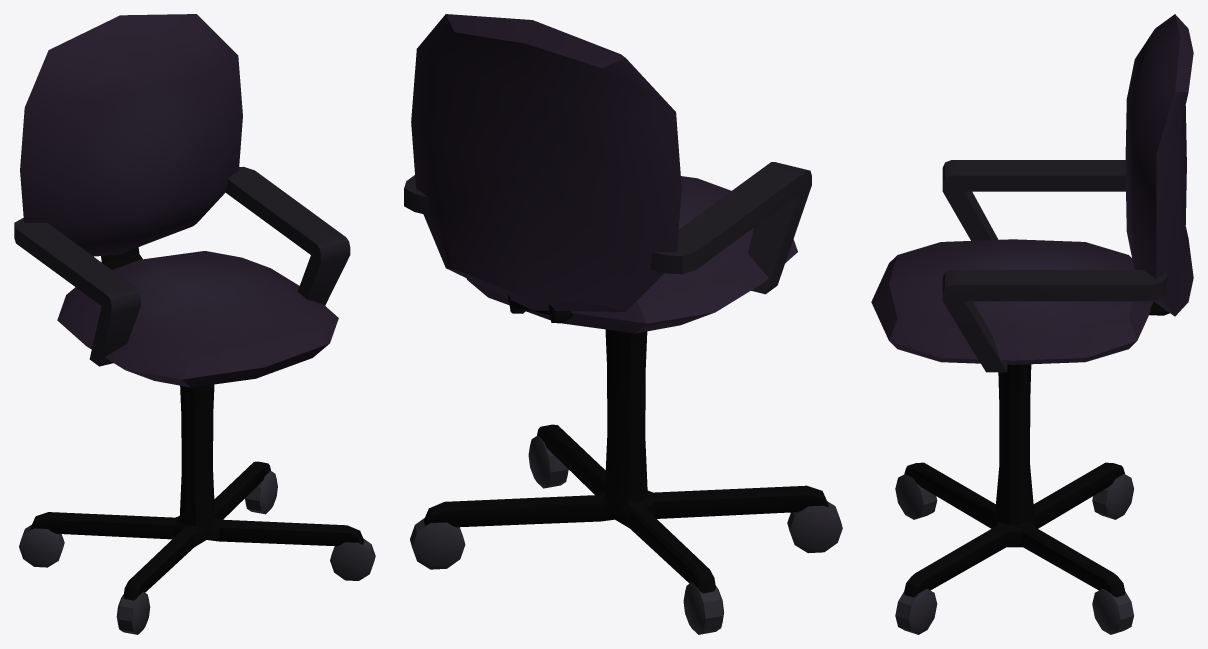
Rendered from Chair.fbx.
3 views of the same model, side by side, from view 1: azimuth 30°, elevation 25°; view 2: azimuth 150°, elevation 25°; view 3: azimuth 270°, elevation 25° (orthographic). The views are drawn at different scales.
Parts seen in each view (by area): view 1: Circle; view 2: Circle; view 3: Circle.
Part boxes in pixels (x1,y1,x2,y2): Circle: [14, 14, 375, 634]; Circle: [404, 14, 842, 634]; Circle: [871, 14, 1193, 634].
Size of the model in its own units: 63.1 by 116 by 63.51.
Materials: 1 (1 with a texture image).
